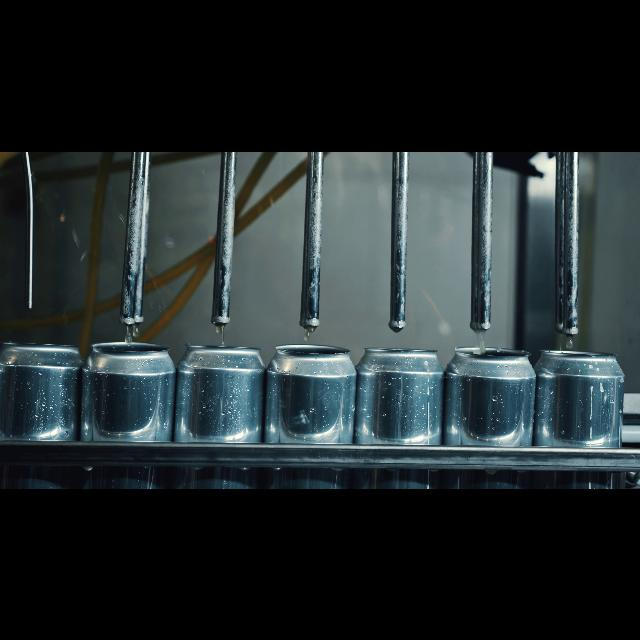empty: (86, 332, 178, 488), (266, 340, 360, 488), (533, 342, 625, 488), (2, 332, 86, 488), (446, 342, 534, 488), (180, 340, 264, 488), (360, 344, 444, 488)
